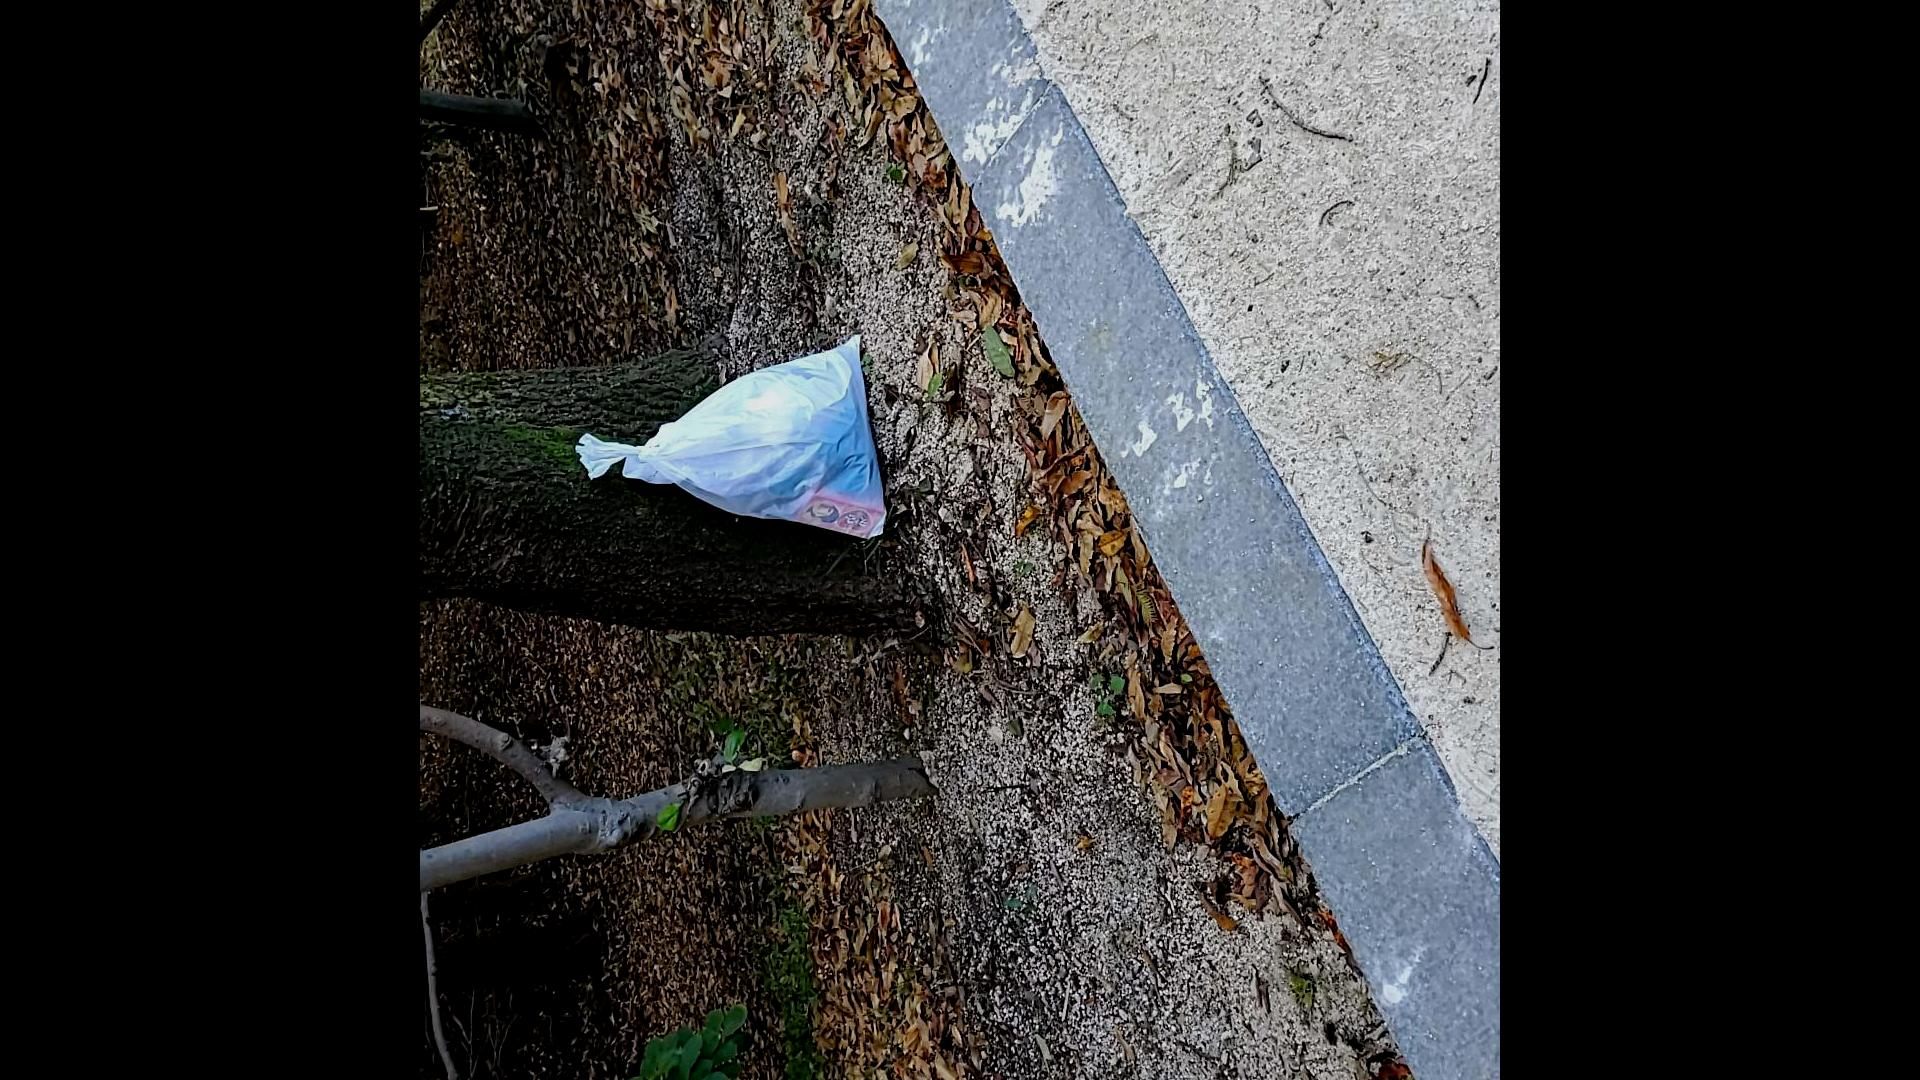white_bag: (554, 309, 893, 550)
